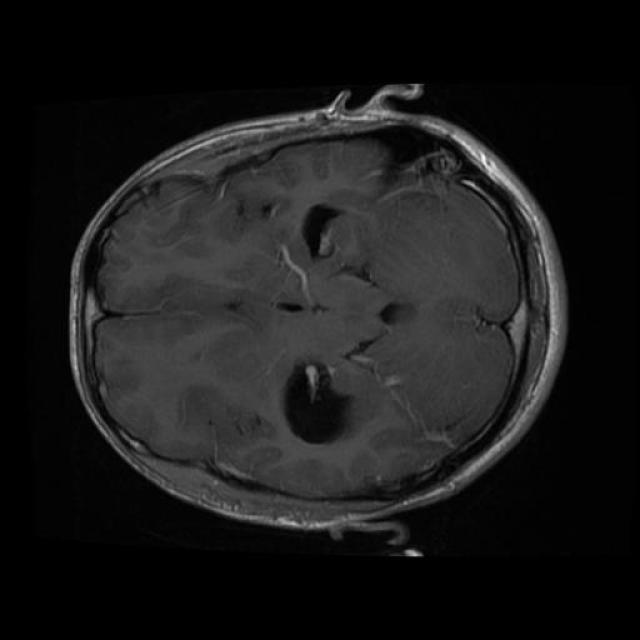Glioma: (284, 363, 353, 443)
